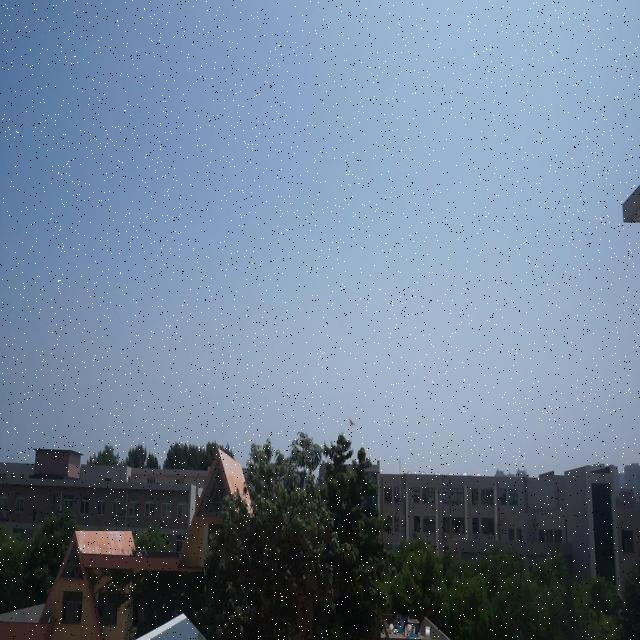UAV: (349, 418, 357, 429)
